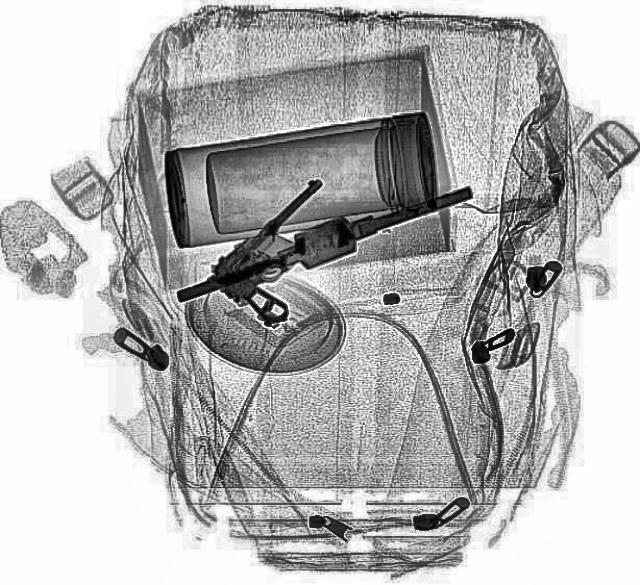Gun: (195, 170, 382, 332)
